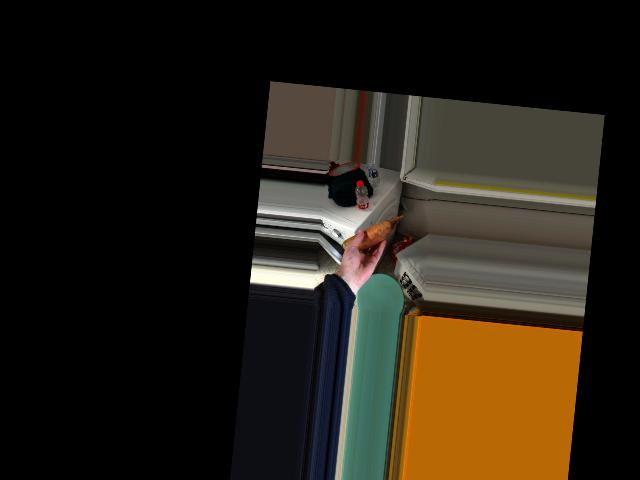sweet_potato: (343, 224, 382, 259)
